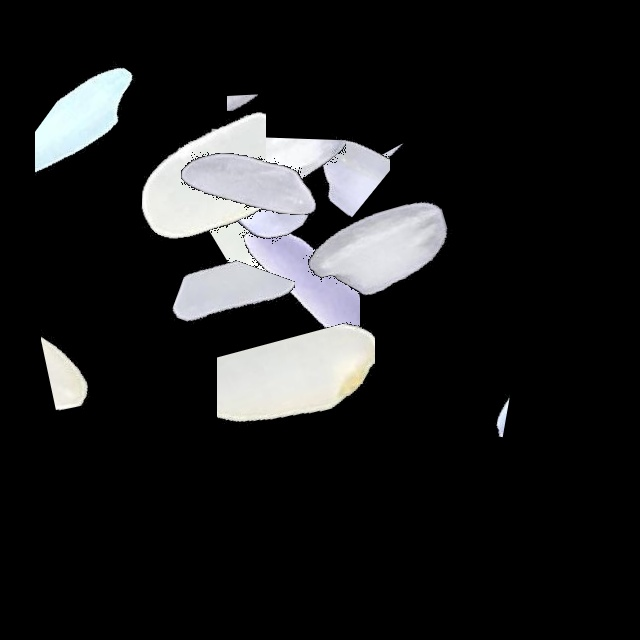Broken: (195, 181, 360, 431), (217, 293, 375, 543), (112, 50, 266, 300), (142, 210, 295, 460), (158, 158, 408, 300), (255, 21, 390, 271), (211, 80, 346, 330), (35, 28, 168, 278), (151, 158, 401, 284), (362, 69, 458, 319), (41, 210, 123, 460), (227, 8, 306, 258), (442, 210, 520, 460)
Full: (122, 59, 372, 309), (253, 126, 503, 376)
